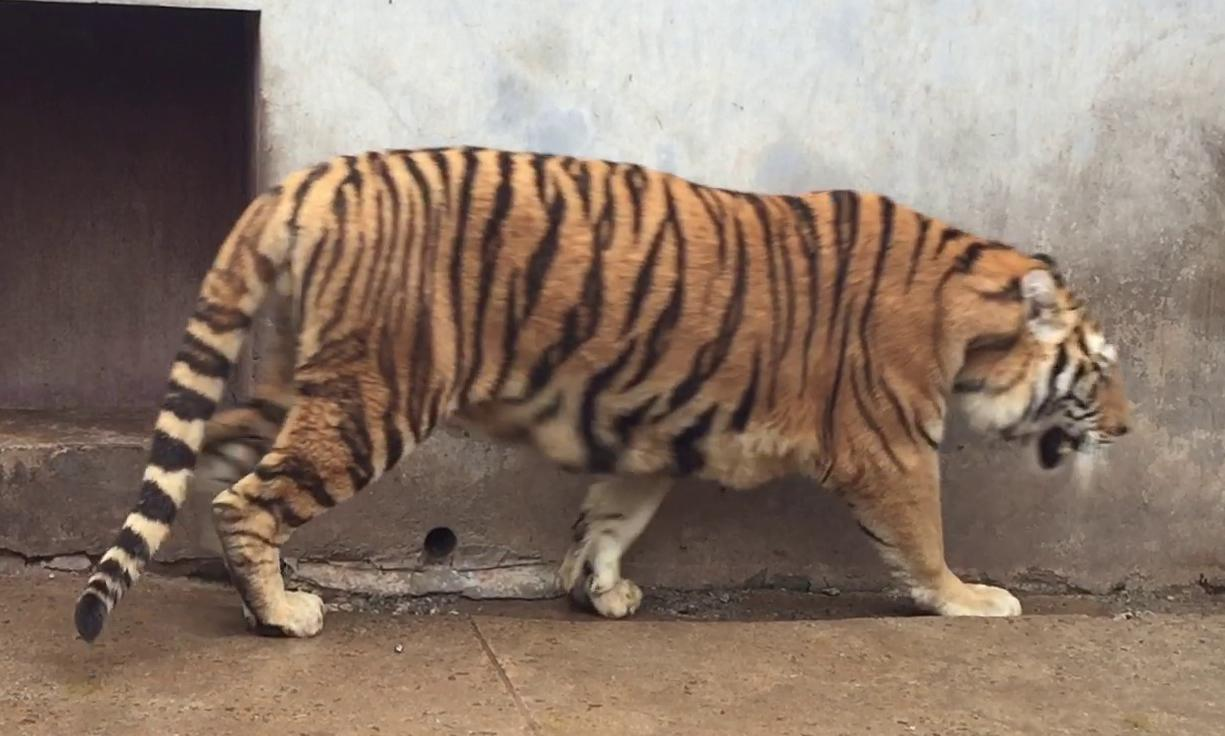tiger: (77, 148, 1130, 639)
